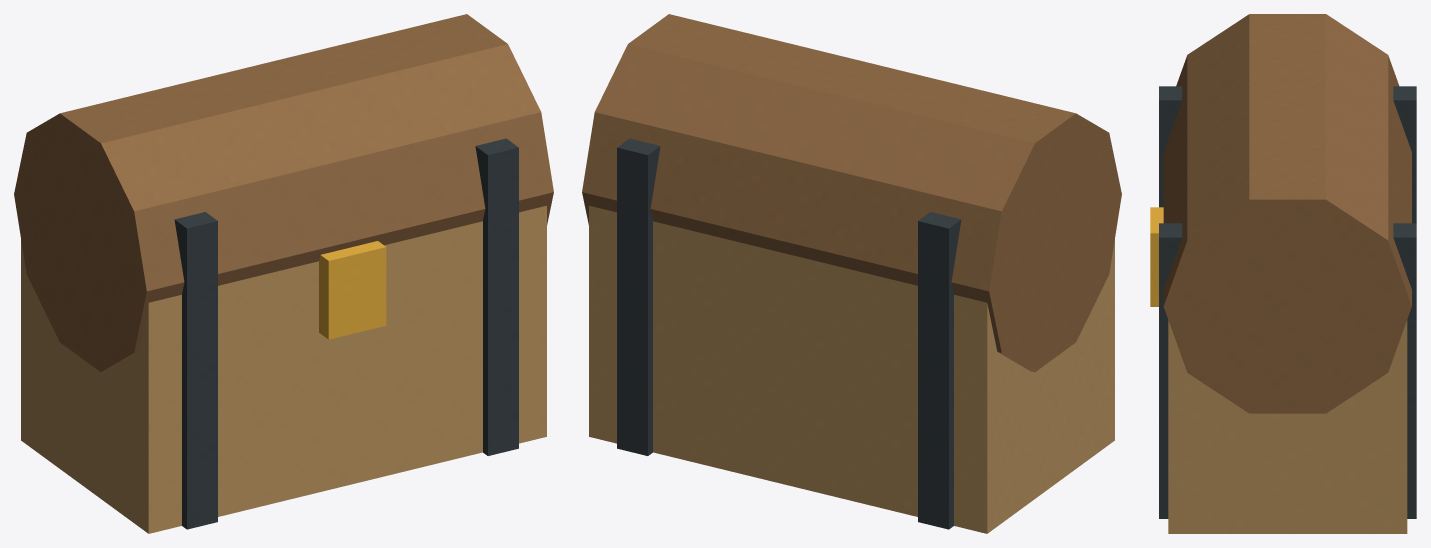
File: chest.glb
3 views of the same model, side by side, from view 1: azimuth 30°, elevation 25°; view 2: azimuth 150°, elevation 25°; view 3: azimuth 270°, elevation 25° (orthographic). The views are drawn at different scales.
Parts seen in each view (by area): view 1: Barrel lid 002, Chest box 001, Chest iron strap 004, Chest iron strap 003, Chest lock 005; view 2: Barrel lid 002, Chest box 001, Chest iron strap 004, Chest iron strap 003; view 3: Barrel lid 002, Chest box 001, Chest iron strap 004, Chest iron strap 003, Chest lock 005.
Boxes of the visible parts, left/top/right/bottom form: Barrel lid 002: left=14, top=14, right=553, bottom=372; Chest box 001: left=21, top=205, right=546, bottom=533; Chest iron strap 004: left=475, top=138, right=518, bottom=455; Chest iron strap 003: left=174, top=212, right=217, bottom=529; Chest lock 005: left=319, top=241, right=386, bottom=339; Barrel lid 002: left=582, top=14, right=1121, bottom=372; Chest box 001: left=589, top=205, right=1114, bottom=533; Chest iron strap 004: left=617, top=138, right=660, bottom=455; Chest iron strap 003: left=918, top=212, right=961, bottom=529; Barrel lid 002: left=1163, top=14, right=1411, bottom=413; Chest box 001: left=1168, top=320, right=1407, bottom=533; Chest iron strap 004: left=1159, top=223, right=1416, bottom=518; Chest iron strap 003: left=1159, top=86, right=1416, bottom=223; Chest lock 005: left=1150, top=207, right=1163, bottom=306.
Bounding box in the file's own units: 0.92 × 0.7773 × 0.558.
Materials: 4 (4 with a texture image).
